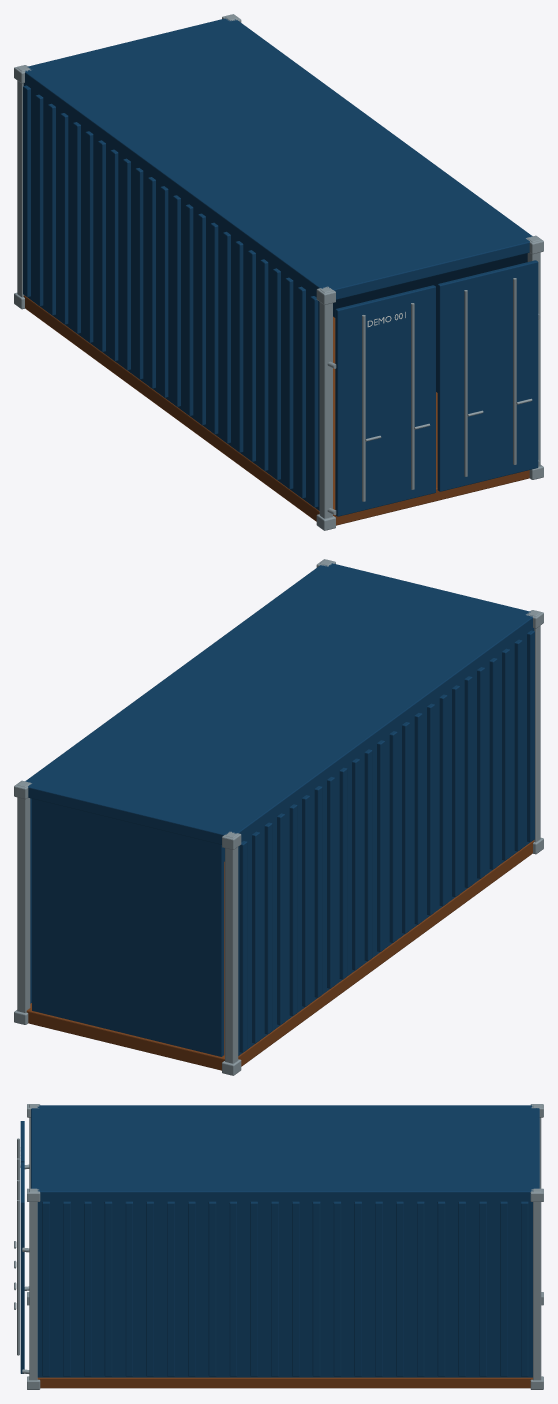
The model's file is edited.glb.
3 views of the same model, one above another, from view 1: azimuth 30°, elevation 25°; view 2: azimuth 150°, elevation 25°; view 3: azimuth 270°, elevation 25° (orthographic). The views are drawn at different scales.
Visible parts, largest first — view 1: ROOF, SIDE_CorrugatedRibs, SIDE_Panel, DOOR_Panel.001, DOOR_Panel, FLOOR, CORNER_Post.001, SIDE_Panel.001, CORNER_Post.002, CORNER_Post.003, LOCK_Bar, LOCK_Bar.001 (+2 smaller); view 2: ROOF, SIDE_CorrugatedRibs, BACK, SIDE_Panel, FLOOR, CORNER_Post.002, CORNER_Post, CORNER_Post.001; view 3: SIDE_Panel.001, ROOF, SIDE_CorrugatedRibs.001, FLOOR, CORNER_Post.003, CORNER_Post, DOOR_Panel.001, LOCK_Bar.003.
Boxes of the visible parts, box(x1,y1,x2,y2) form: ROOF: box(25, 18, 532, 299); SIDE_CorrugatedRibs: box(23, 85, 318, 507); SIDE_Panel: box(23, 82, 319, 510); DOOR_Panel.001: box(437, 260, 538, 491); DOOR_Panel: box(335, 285, 435, 516); FLOOR: box(23, 295, 529, 525); CORNER_Post.001: box(319, 287, 332, 518); SIDE_Panel.001: box(333, 253, 527, 392); CORNER_Post.002: box(17, 66, 29, 297); CORNER_Post.003: box(527, 236, 540, 466); LOCK_Bar: box(362, 315, 365, 501); LOCK_Bar.001: box(411, 303, 414, 489); ROOF: box(25, 563, 532, 844); SIDE_CorrugatedRibs: box(239, 630, 534, 1052); BACK: box(32, 798, 224, 1056); SIDE_Panel: box(238, 626, 534, 1055); FLOOR: box(26, 840, 534, 1070); CORNER_Post.002: box(225, 832, 238, 1063); CORNER_Post: box(17, 781, 30, 1012); CORNER_Post.001: box(528, 611, 540, 842); SIDE_Panel.001: box(37, 1199, 532, 1377); ROOF: box(31, 1105, 539, 1200); SIDE_CorrugatedRibs.001: box(42, 1201, 528, 1376); FLOOR: box(37, 1377, 532, 1388); CORNER_Post.003: box(29, 1188, 37, 1380); CORNER_Post: box(533, 1188, 541, 1380); DOOR_Panel.001: box(20, 1162, 24, 1373); LOCK_Bar.003: box(17, 1200, 19, 1355).
Size of the model in its own units: 2.53 by 2.59 by 6.31.
